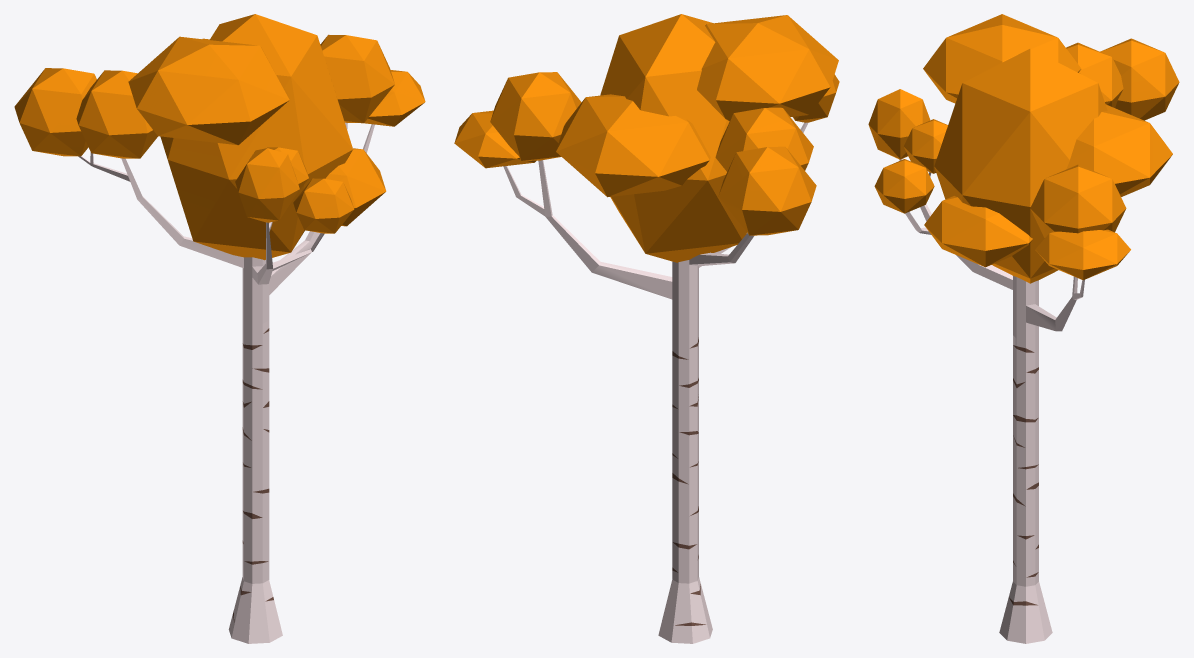
File: Tree_2.FBX
The picture shows the model from 3 angles, left to right: view 1: azimuth 30°, elevation 25°; view 2: azimuth 150°, elevation 25°; view 3: azimuth 270°, elevation 25°; orthographic projection. The views are drawn at different scales.
Parts seen in each view (by area): view 1: Tree_2; view 2: Tree_2; view 3: Tree_2.
Boxes of the visible parts, <box> form: Tree_2: <box>14,14,425,643</box>; Tree_2: <box>454,14,839,643</box>; Tree_2: <box>868,14,1179,643</box>.
Size of the model in its own units: 382 by 599 by 289.
